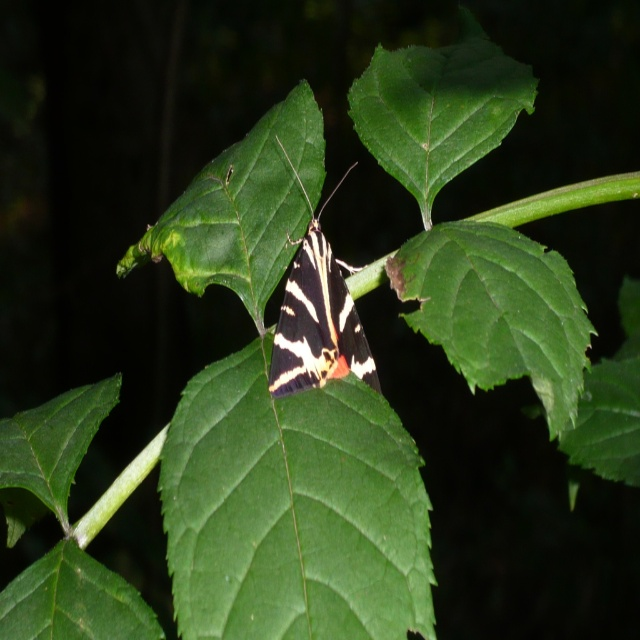Butterfly: (259, 175, 382, 405)
